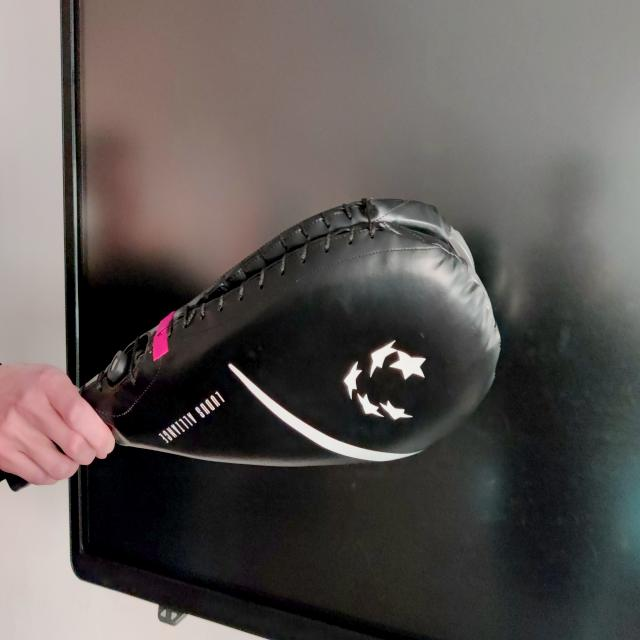paddle: (80, 192, 506, 472)
